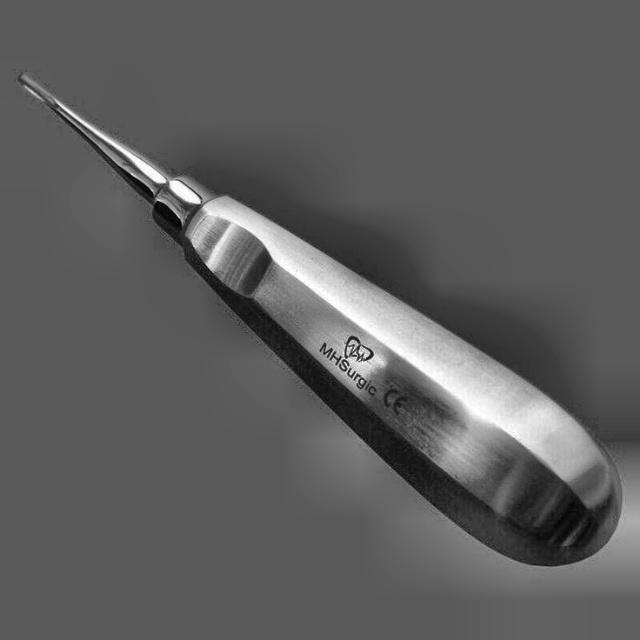botador: (17, 73, 625, 570)
